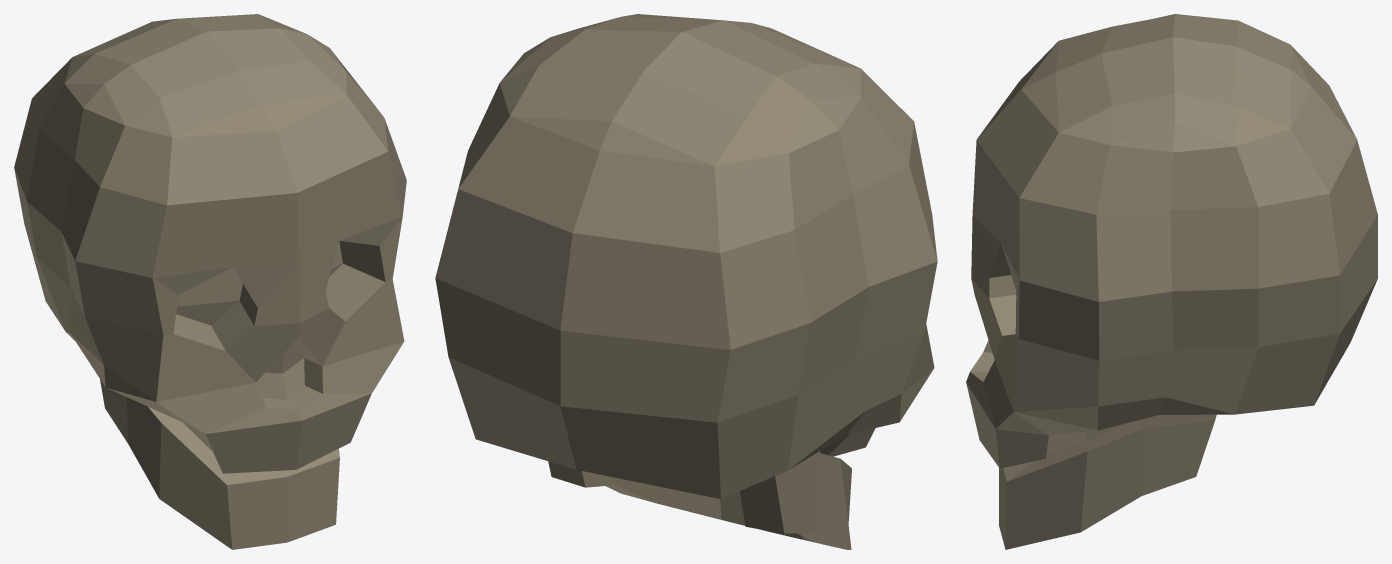
The model's file is Skull.glb.
3 renders of one model, left to right at view 1: azimuth 30°, elevation 25°; view 2: azimuth 150°, elevation 25°; view 3: azimuth 270°, elevation 25°, orthographic. The views are drawn at different scales.
Visible parts, largest first — view 1: Skull_Cylinder.007; view 2: Skull_Cylinder.007; view 3: Skull_Cylinder.007.
Part boxes in pixels (box(x1,y1,x2,y2)): Skull_Cylinder.007: box(14, 14, 406, 549); Skull_Cylinder.007: box(435, 14, 937, 549); Skull_Cylinder.007: box(966, 14, 1377, 549).
Size of the model in its own units: 0.583 by 0.7596 by 0.58.
